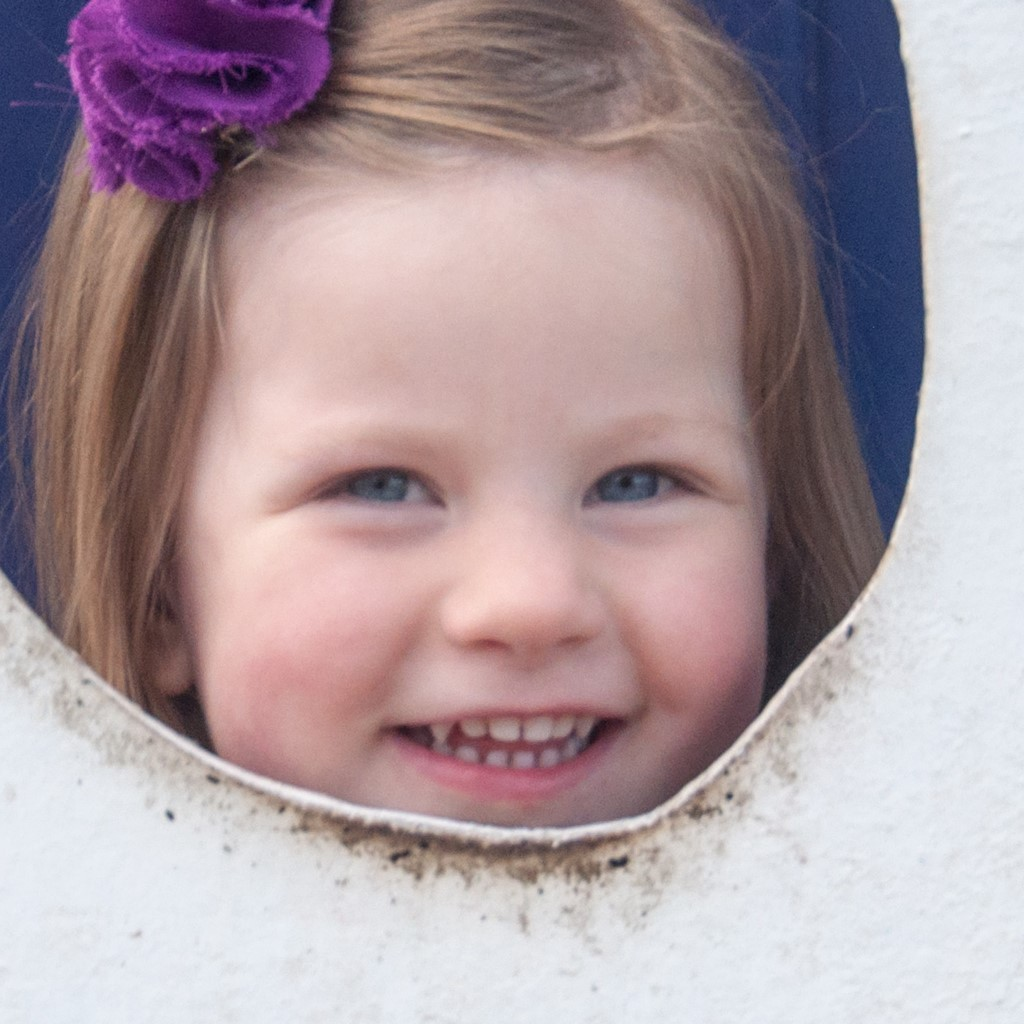sin_mascara: (94, 21, 801, 864)
